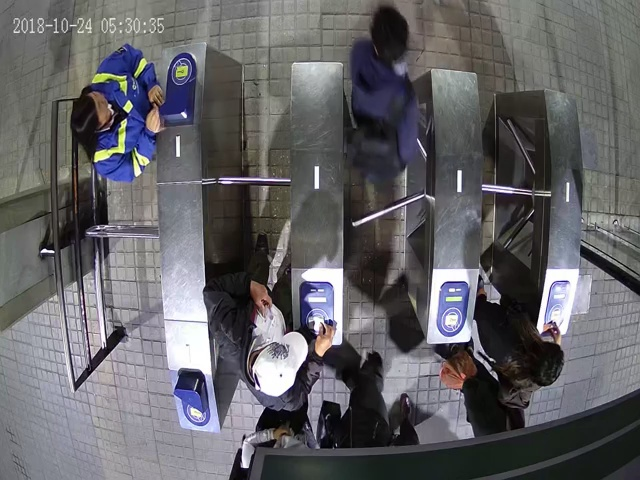Chaleco_azul: (70, 42, 165, 183)
